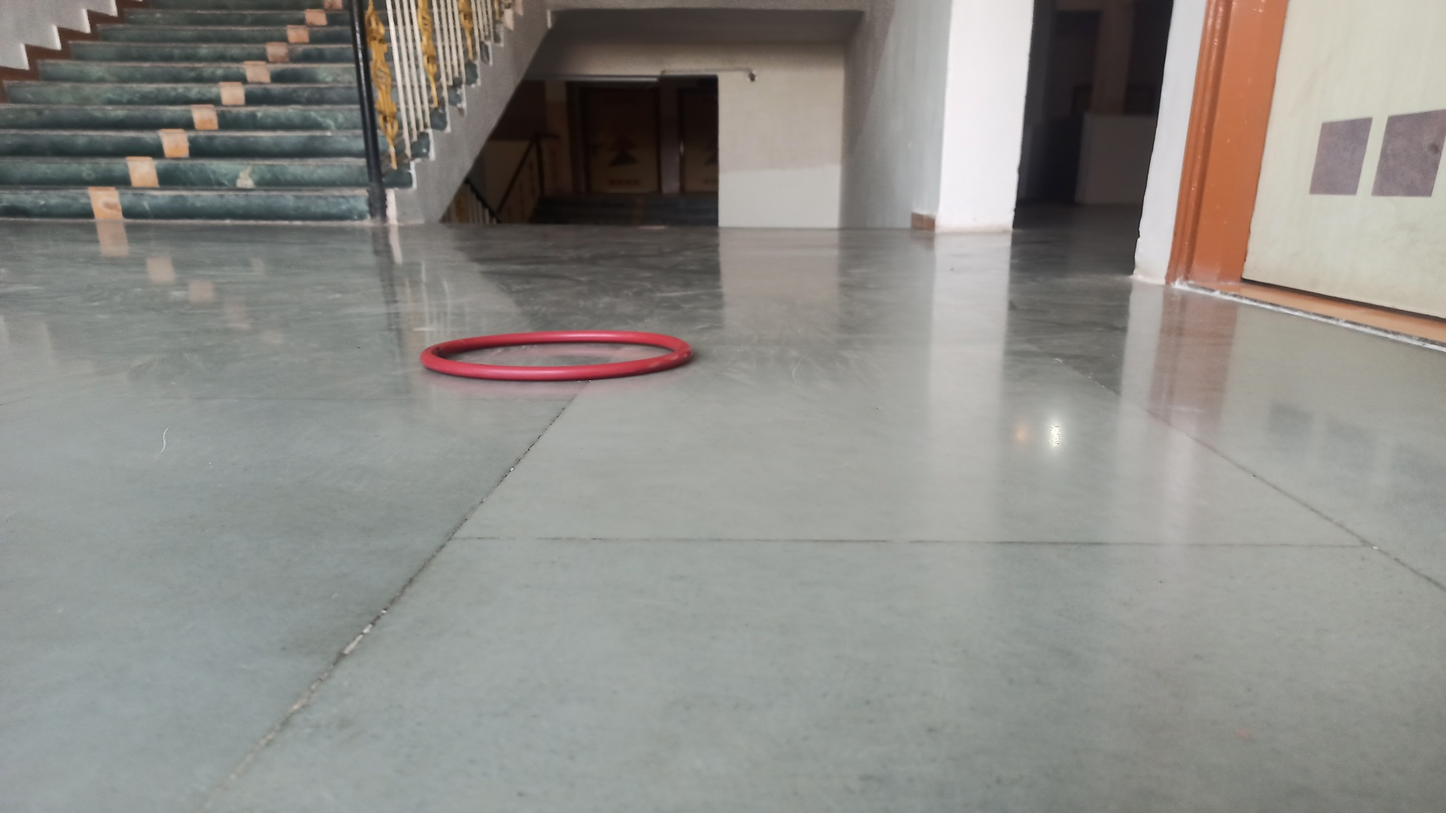Red ring: (422, 328, 692, 380)
